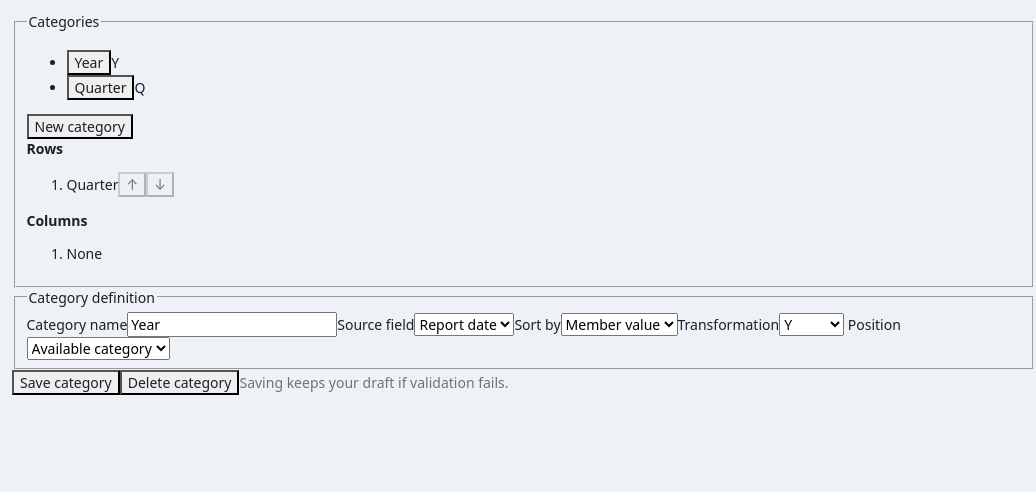
Test: rejects deleting Page and result-filter dependencies without cascading them
Click the button "Delete category": (180, 383) x1=120 y1=370 x2=240 y2=395
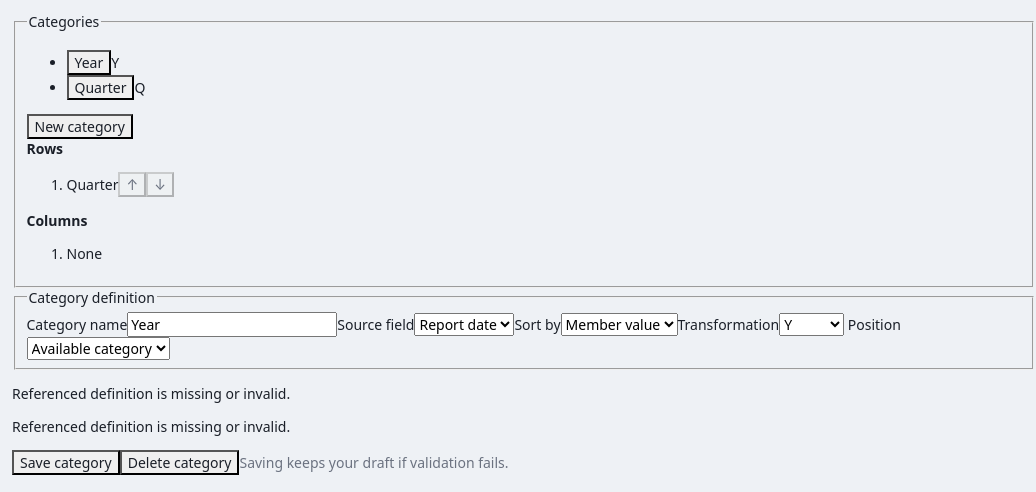
Expected: the message is shown, x1=12 y1=384 x2=290 y2=436
